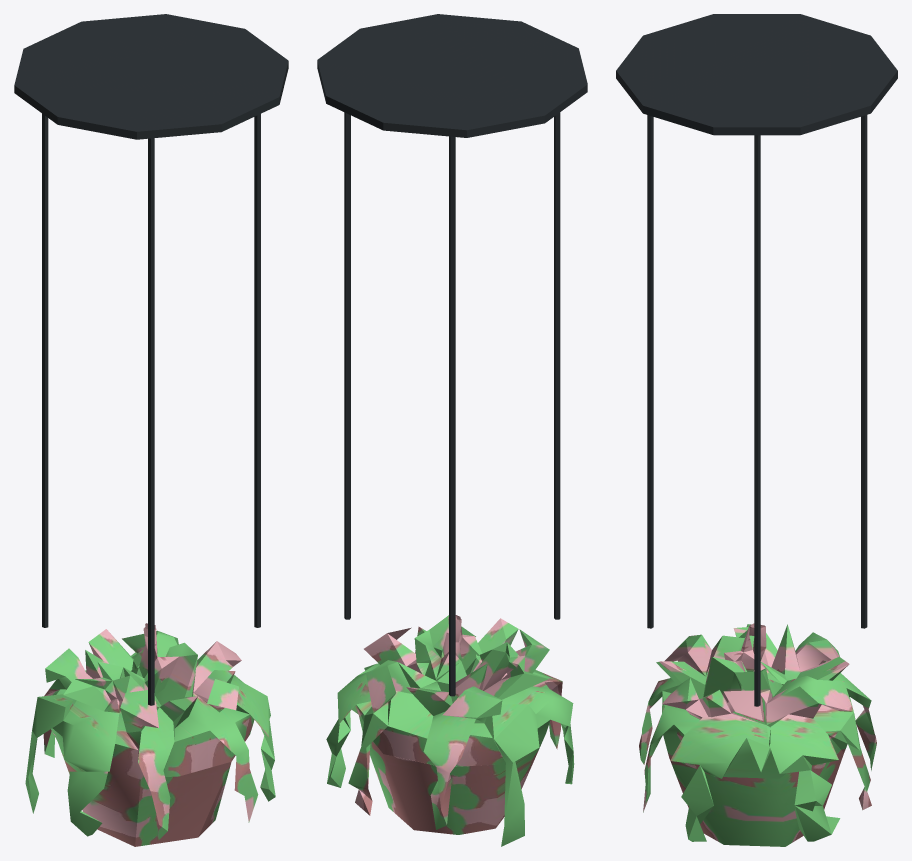
The picture shows the model from 3 angles, left to right: view 1: azimuth 30°, elevation 25°; view 2: azimuth 150°, elevation 25°; view 3: azimuth 270°, elevation 25°; orthographic projection.
Parts seen in each view (by area): view 1: Decor_hanging_planter; view 2: Decor_hanging_planter; view 3: Decor_hanging_planter.
Part boxes in pixels (<box>): Decor_hanging_planter: <box>14,14,288,846</box>; Decor_hanging_planter: <box>317,14,587,846</box>; Decor_hanging_planter: <box>616,14,897,846</box>.
Bounding box in the file's own units: 0.913 × 2.83 × 0.9601.
2 materials, 2 textured.
